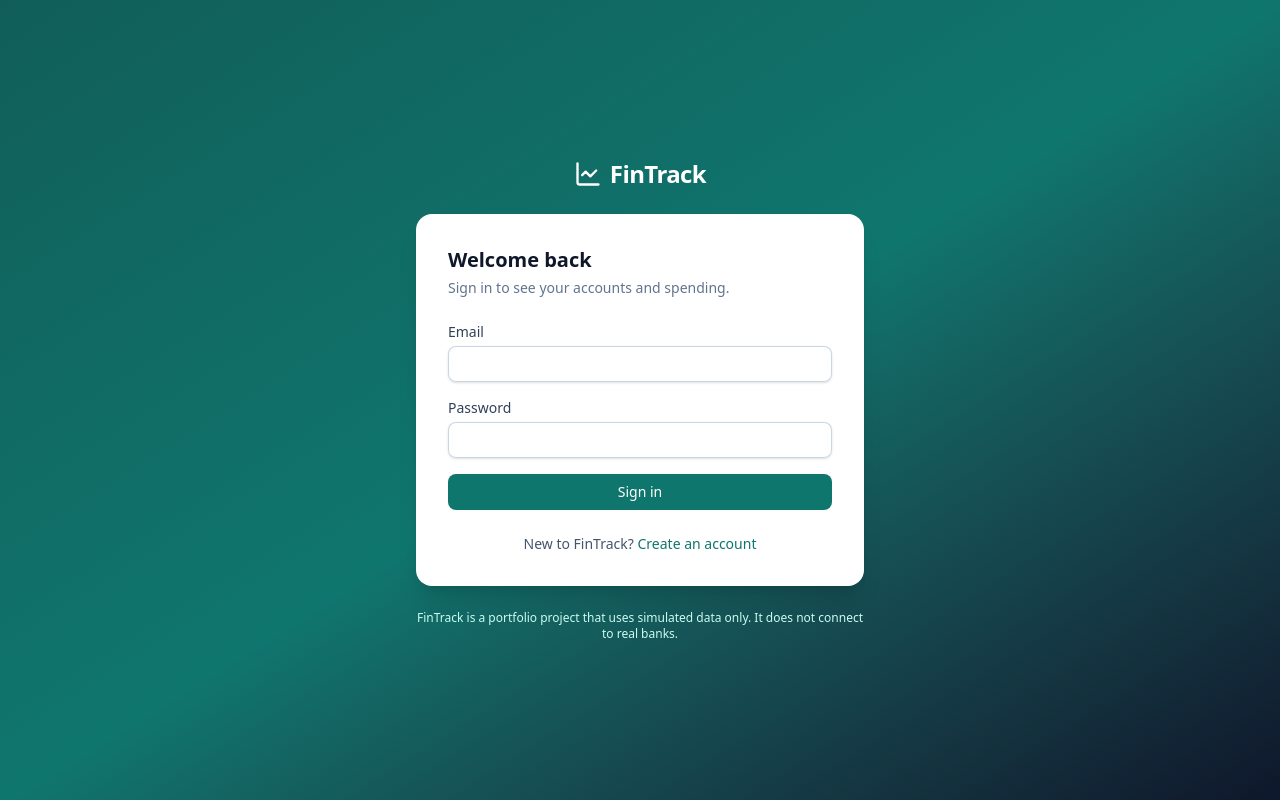
Test: LoginPage › shows one clear message when the credentials are wrong
Type "alice@example.com" into the field labelled "Email". click: (640, 364)
box: [448, 346, 832, 382]
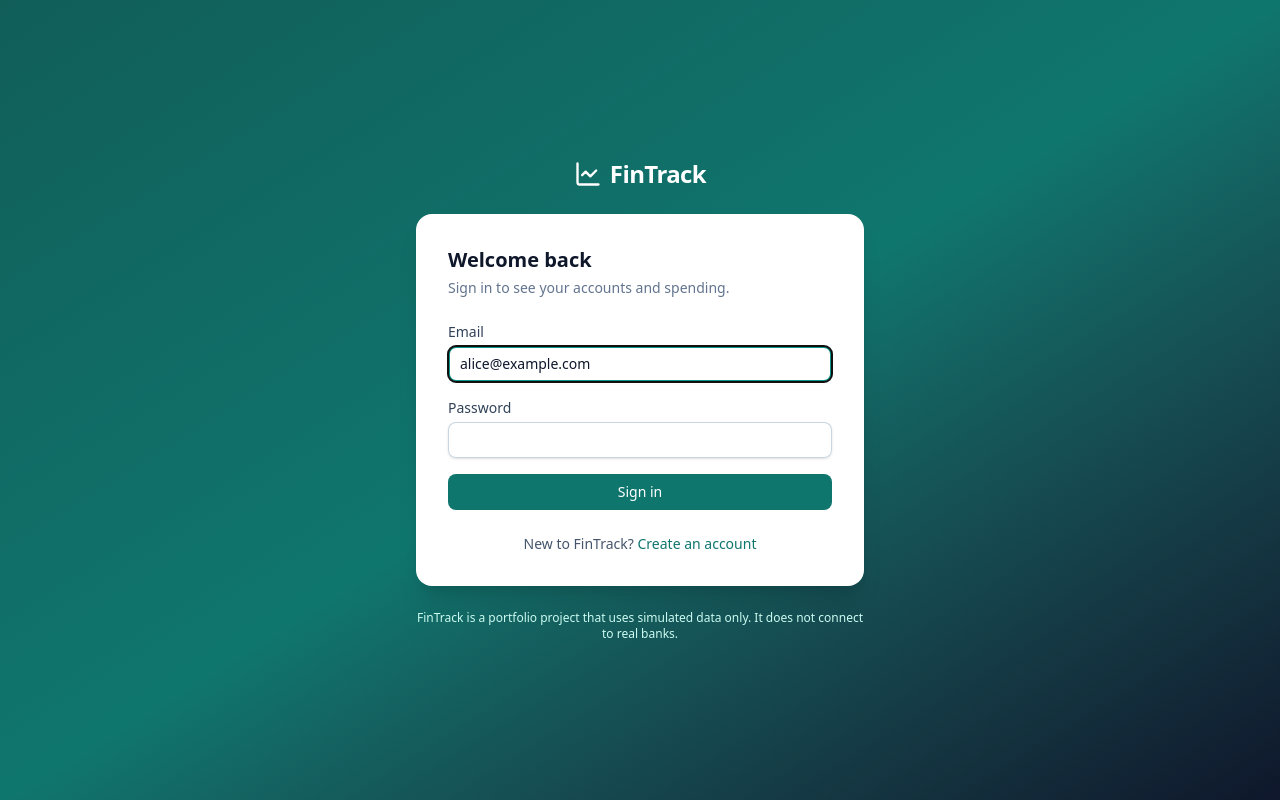
Type "wrong-password1" into the password field labelled "Password". click: (640, 440)
box: [448, 422, 832, 458]
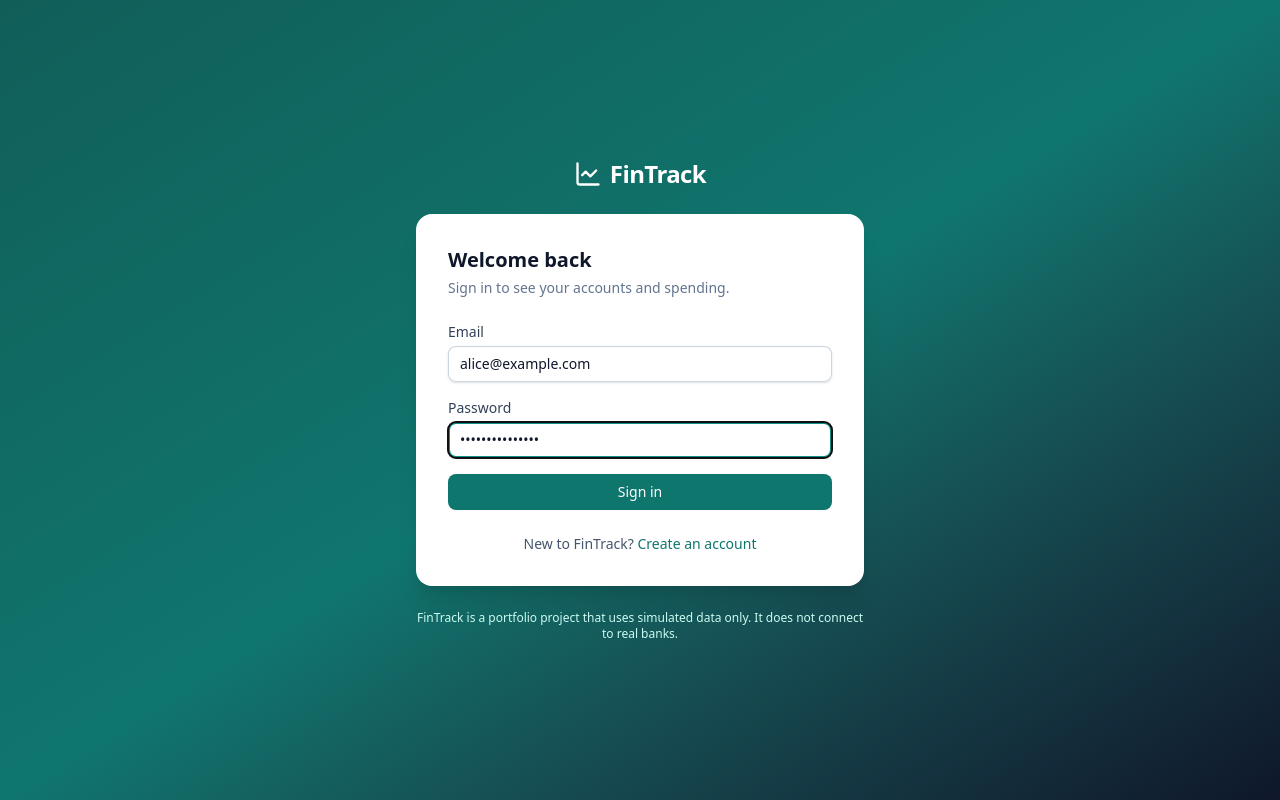
Click the button "Sign in". click: (640, 492)
box: [448, 474, 832, 510]
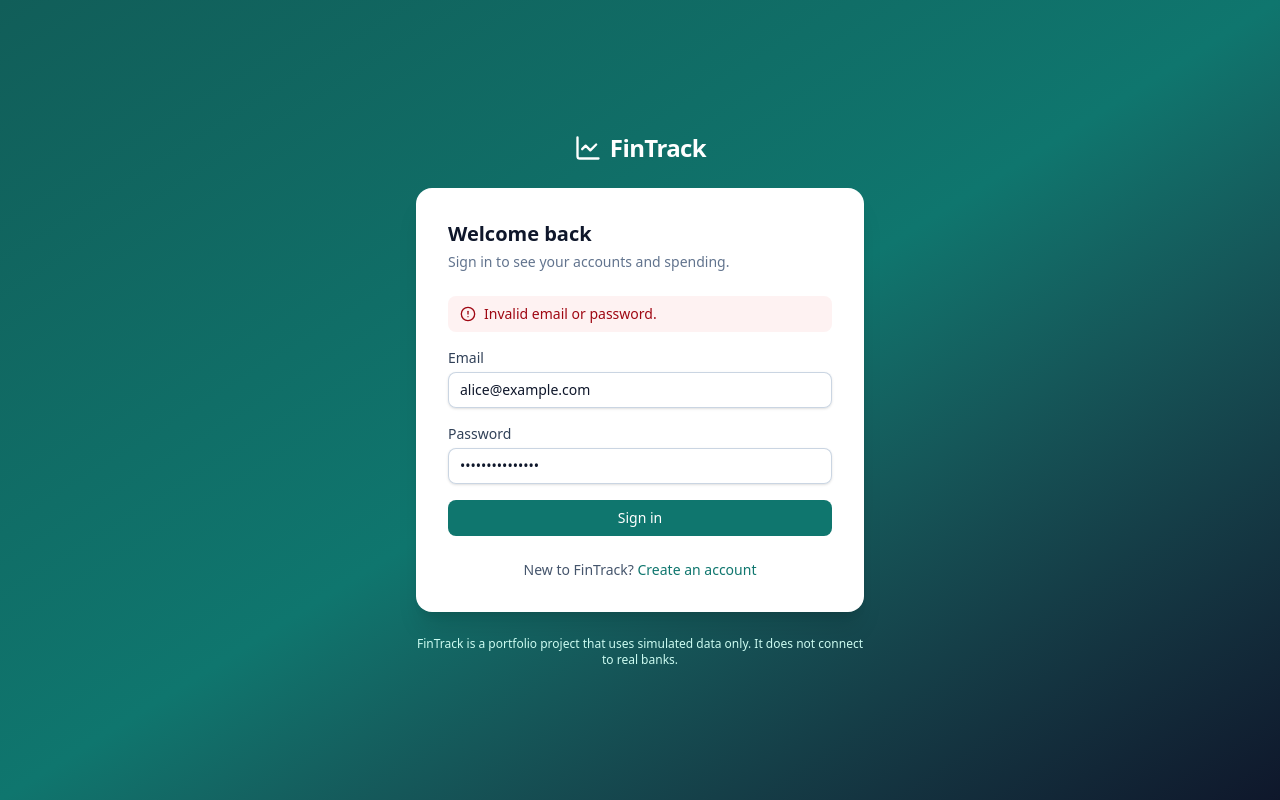
Expected: the message reads "Invalid email or password.", [484, 304, 657, 323]
